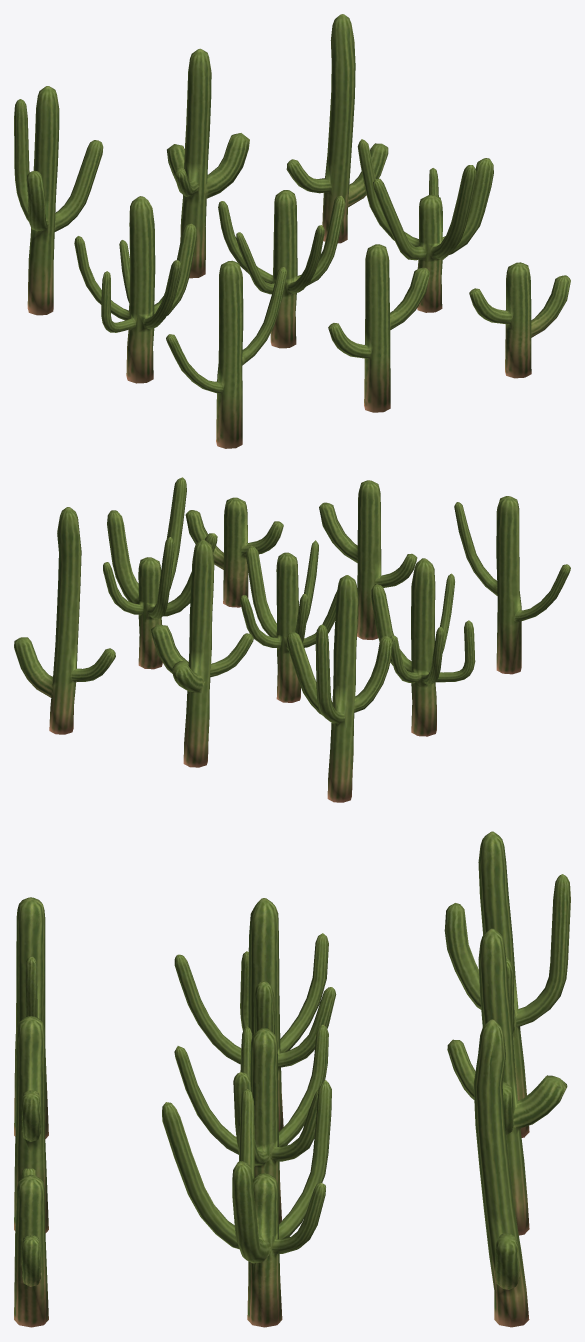
Rendered from cactus.glb.
The picture shows the model from 3 angles, top to bottom: view 1: azimuth 30°, elevation 25°; view 2: azimuth 150°, elevation 25°; view 3: azimuth 270°, elevation 25°; orthographic projection. The views are drawn at different scales.
Visible parts, largest first — view 1: cactus_9, cactus_6, cactus_4, cactus_8, cactus_5, cactus_3, cactus_7, cactus_2, cactus_1; view 2: cactus_9, cactus_6, cactus_8, cactus_7, cactus_4, cactus_5, cactus_3, cactus_2, cactus_1; view 3: cactus_4, cactus_6, cactus_5, cactus_7, cactus_9, cactus_8, cactus_2, cactus_1, cactus_3.
Part boxes in pixels (x1,y1,x2,y2): cactus_9: [14, 86, 103, 315]; cactus_6: [74, 196, 196, 383]; cactus_4: [357, 139, 493, 312]; cactus_8: [167, 48, 249, 278]; cactus_5: [218, 190, 345, 348]; cactus_3: [166, 260, 287, 448]; cactus_7: [286, 14, 388, 243]; cactus_2: [328, 244, 429, 412]; cactus_1: [469, 262, 570, 378]; cactus_9: [286, 575, 392, 802]; cactus_6: [371, 558, 475, 736]; cactus_8: [151, 540, 253, 767]; cactus_7: [14, 507, 115, 734]; cactus_4: [103, 477, 217, 669]; cactus_5: [240, 540, 337, 702]; cactus_3: [454, 496, 570, 674]; cactus_2: [319, 480, 417, 639]; cactus_1: [185, 497, 283, 607]; cactus_4: [162, 1080, 331, 1327]; cactus_6: [174, 898, 336, 1131]; cactus_5: [174, 1024, 328, 1223]; cactus_7: [473, 1019, 529, 1327]; cactus_9: [444, 831, 570, 1137]; cactus_8: [447, 928, 567, 1235]; cactus_2: [14, 1016, 48, 1232]; cactus_1: [14, 1168, 48, 1327]; cactus_3: [14, 897, 48, 1138].
Bounding box in the file's own units: 7.66 × 4.12 × 6.94.
Materials: 9 (9 with a texture image).
